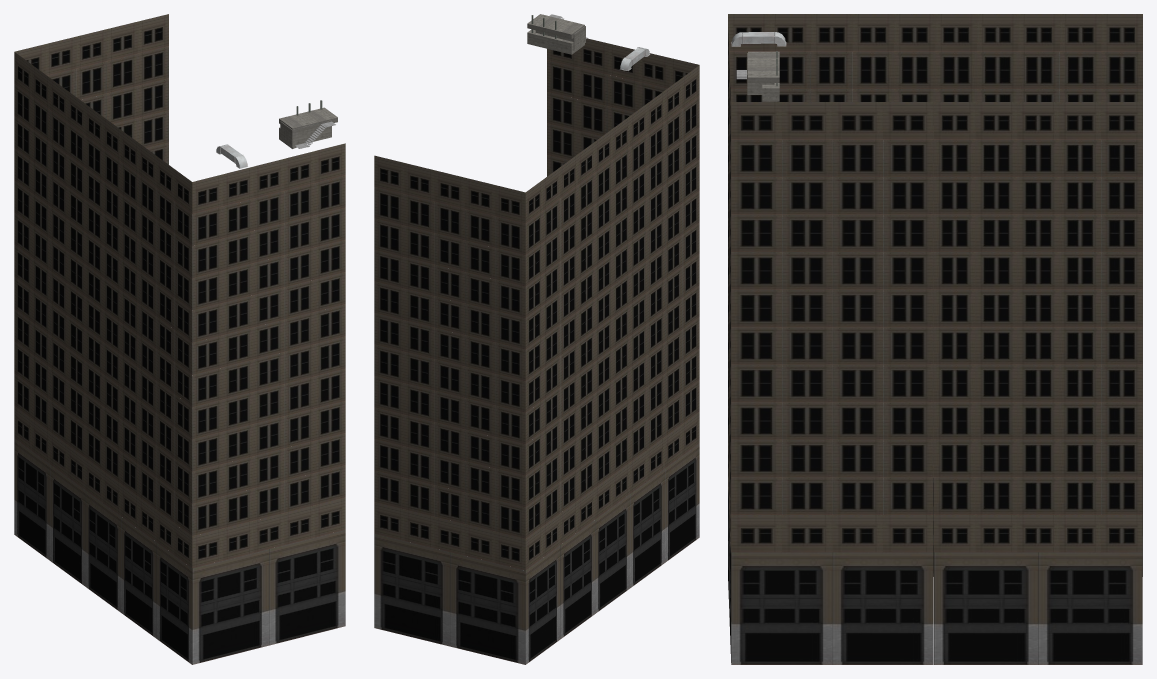
File: nycity_09.gltf
3 renders of one model, left to right at view 1: azimuth 30°, elevation 25°; view 2: azimuth 150°, elevation 25°; view 3: azimuth 270°, elevation 25°, orthographic. The views are drawn at different scales.
Visible parts, largest first — view 1: nycity_09; view 2: nycity_09; view 3: nycity_09.
Boxes of the visible parts, x1=… form: nycity_09: x1=14, y1=14, x2=345, y2=664; nycity_09: x1=374, y1=14, x2=699, y2=664; nycity_09: x1=728, y1=14, x2=1142, y2=664.
Bounding box in the file's own units: 15.09 × 47.75 × 30.06.
5 materials, 3 textured.
